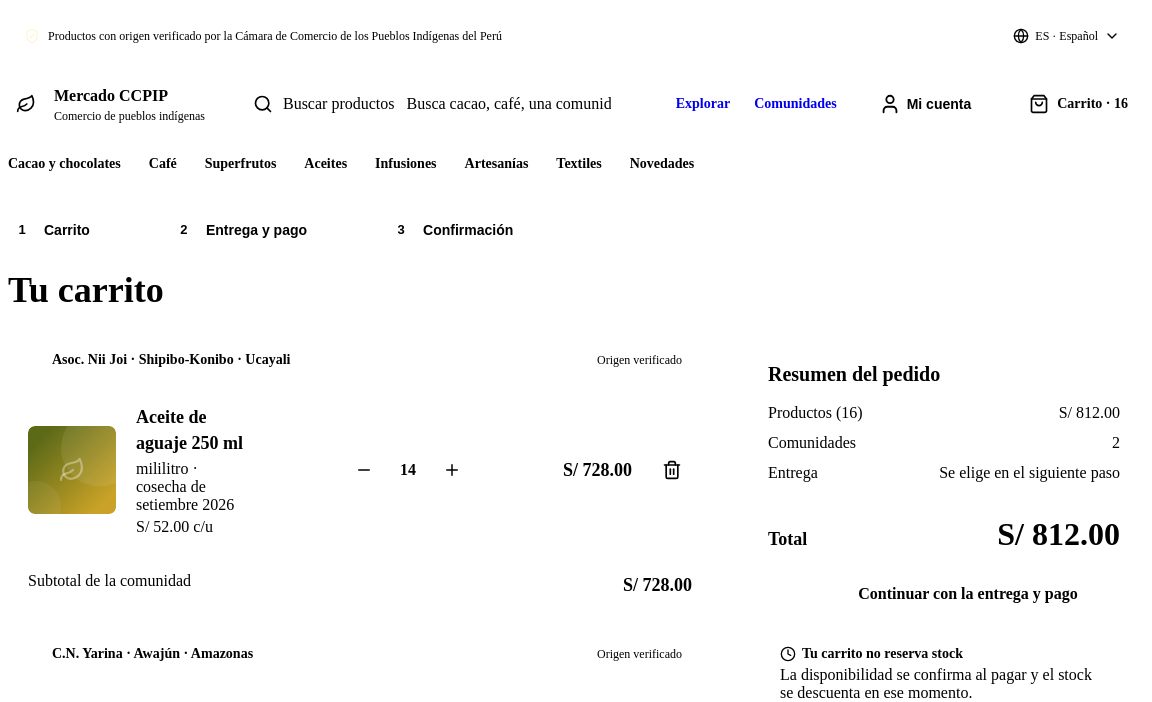
CCPIP-268 Modificar la cantidad en el carrito › cambia la cantidad sin boton de actualizar y recalcula subtotal, total y cabecera
Tres clics seguidos son una sola peticion, con la cantidad final
Click the button named "Quitar una unidad".
click(364, 470)  # box [344,446,384,494]
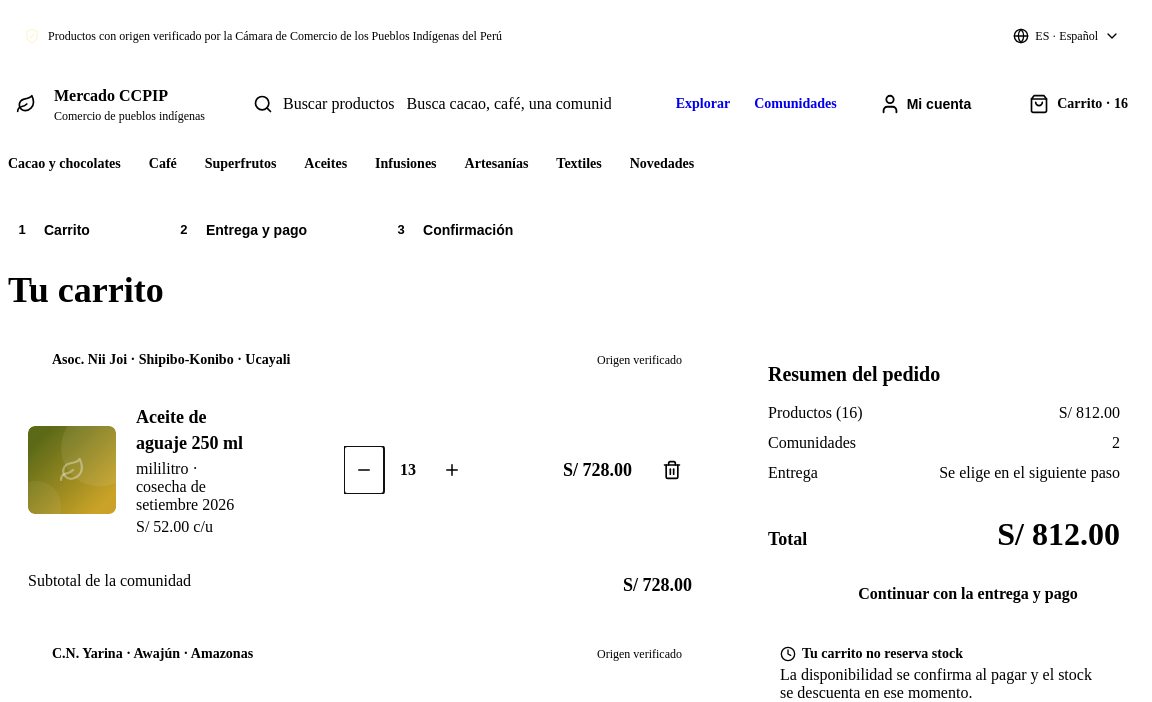
Click the button named "Quitar una unidad".
click(364, 470)  # box [344,446,384,494]
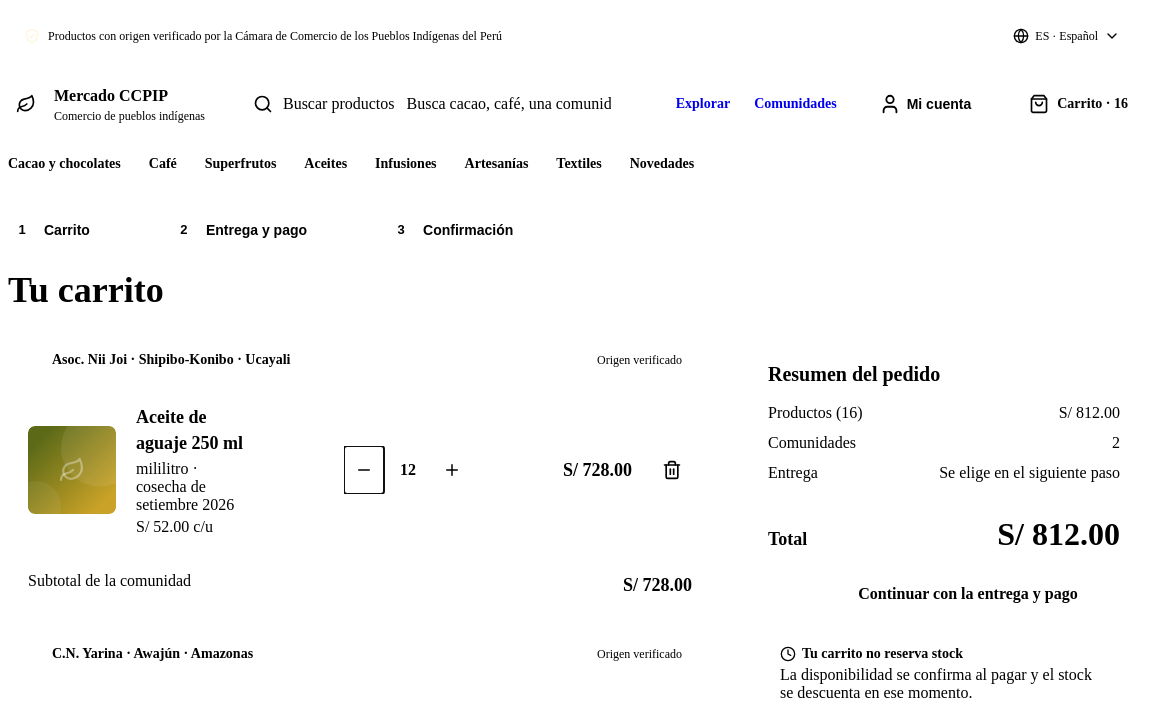
Click the button named "Agregar una unidad".
click(452, 470)  # box [432,446,472,494]
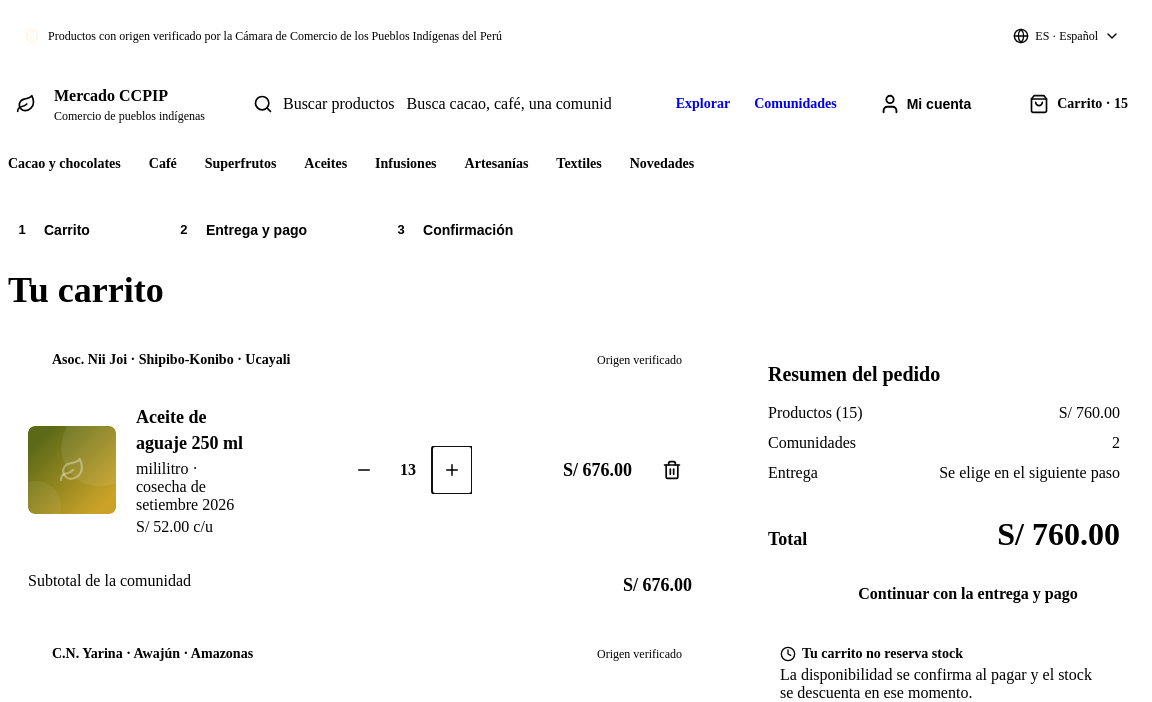
Now the field named "Cantidad de Aceite de aguaje 250 ml" holds "13", box [384,446,432,494]
Now the text "S/ 676.00" in the row of "mililitro · cosecha de setiembre 2026" is shown, box [563,460,632,480]
Now the text "Productos (15)" is shown, box [768,404,863,422]
